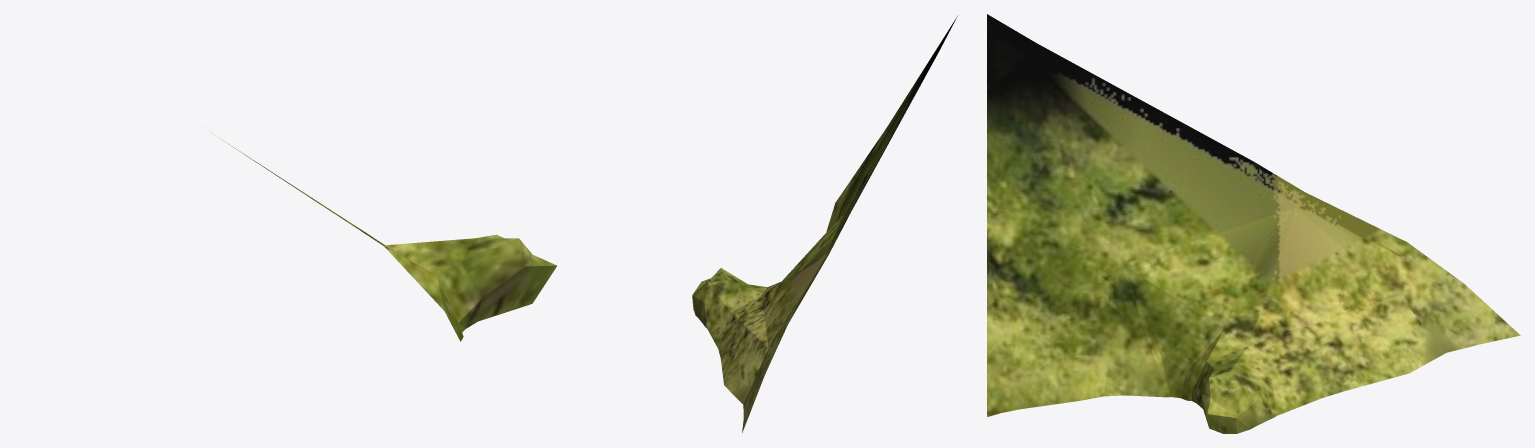
3 views of the same model, side by side, from view 1: azimuth 30°, elevation 25°; view 2: azimuth 150°, elevation 25°; view 3: azimuth 270°, elevation 25° (orthographic). The views are drawn at different scales.
Size of the model in its own units: 2.43 by 3.62 by 5.45.
Materials: 1 (1 with a texture image).
